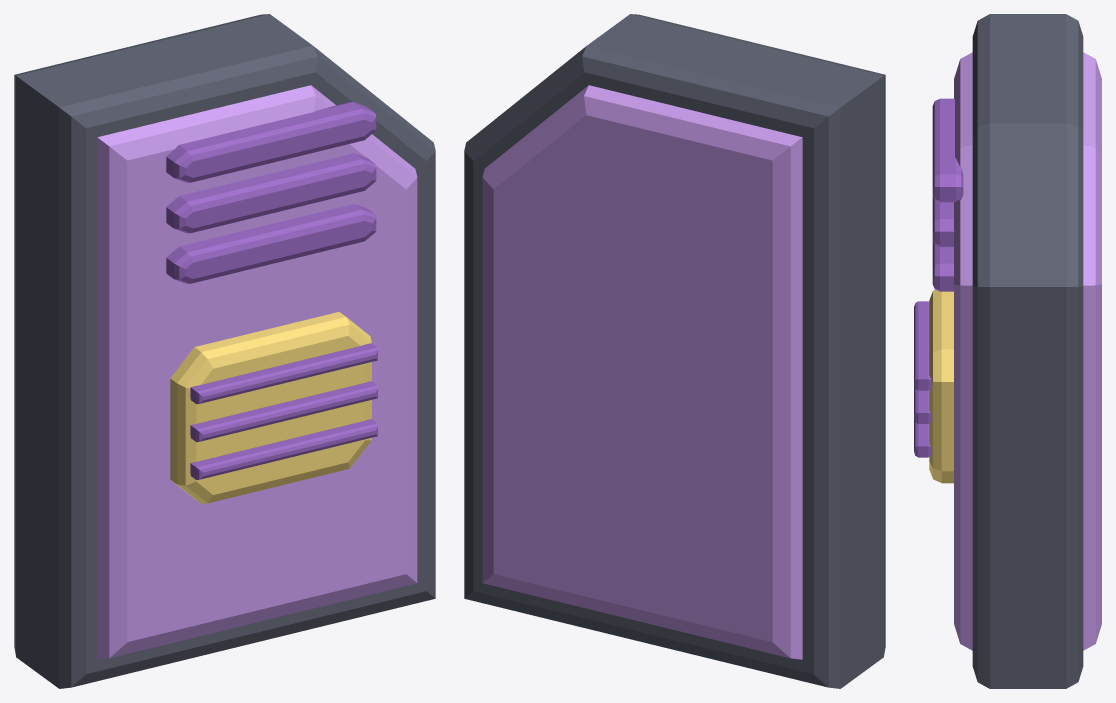
Rendered from game-ui-icon-library-credit-chip-93860d4d__18977.glb.
3 views of the same model, side by side, from view 1: azimuth 30°, elevation 25°; view 2: azimuth 150°, elevation 25°; view 3: azimuth 270°, elevation 25° (orthographic). The views are drawn at different scales.
Parts seen in each view (by area): view 1: credit-chip; view 2: credit-chip; view 3: credit-chip.
Boxes of the visible parts, <box> form: credit-chip: <box>14,14,435,688</box>; credit-chip: <box>464,14,885,688</box>; credit-chip: <box>914,14,1101,688</box>.
Size of the model in its own units: 0.6335 by 0.94 by 0.3116.
